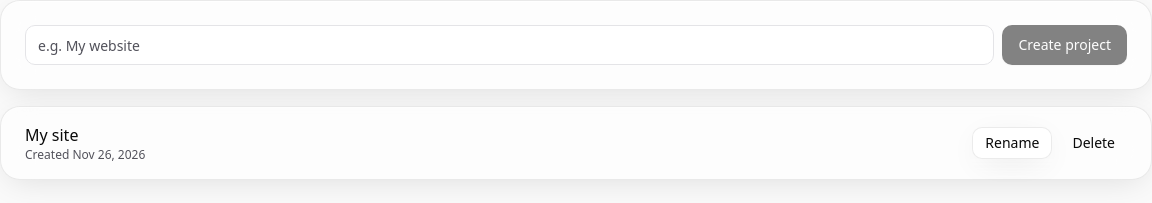
rename › Cancel leaves the name alone and sends nothing
Click the button "Rename" at (1012, 143), box [972,127,1052,159]
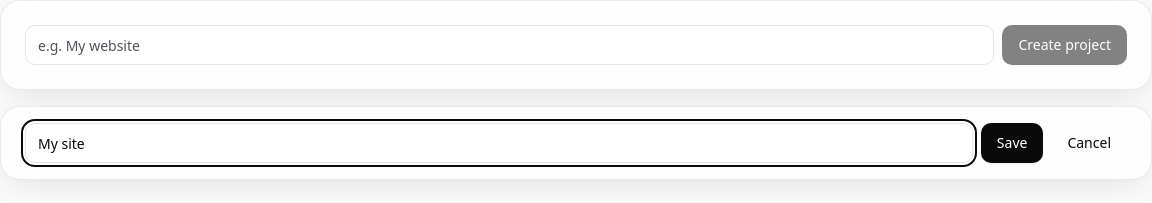
Type " edited" into the field named "New name" at (499, 143), box [25,123,973,163]
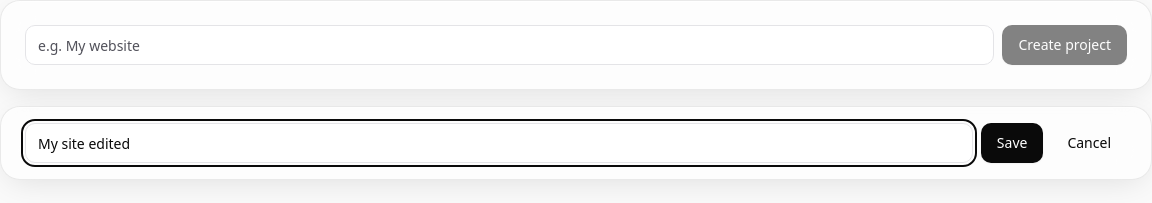
Click the button "Cancel" at (1089, 143), box [1051,123,1127,163]
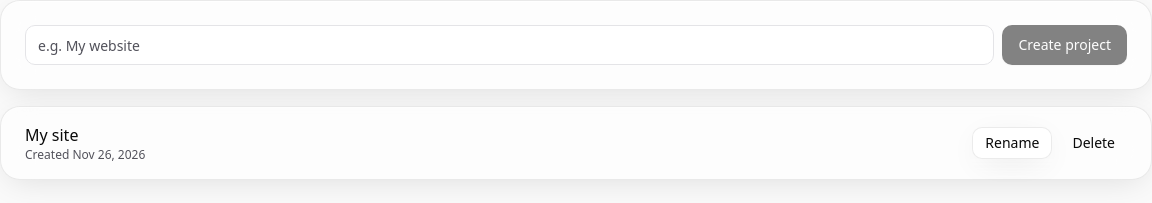
Result: the link "My site" is shown at [25,124,78,146]
